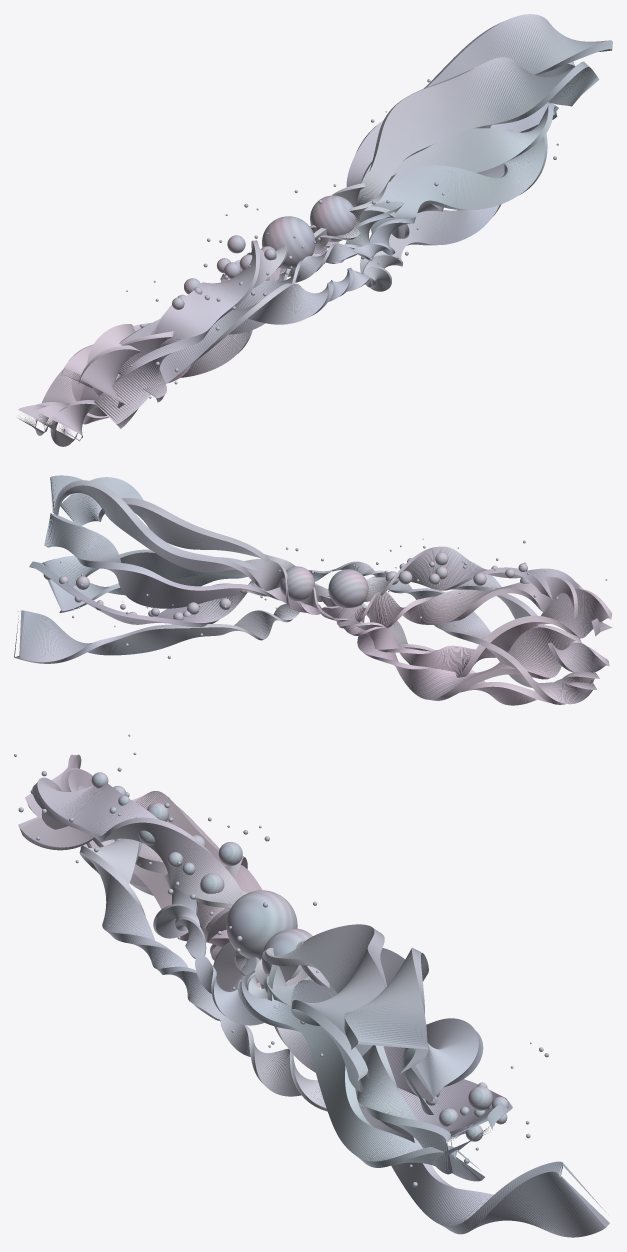
Rendered from glass_wave.glb.
The picture shows the model from 3 angles, top to bottom: view 1: azimuth 30°, elevation 25°; view 2: azimuth 150°, elevation 25°; view 3: azimuth 270°, elevation 25°; orthographic projection. The views are drawn at different scales.
Parts seen in each view (by area): view 1: world; view 2: world; view 3: world.
Part boxes in pixels (x1,y1,x2,y2): world: [18, 14, 612, 446]; world: [14, 475, 612, 705]; world: [14, 734, 609, 1237].
Size of the model in its own units: 38.69 by 12.95 by 22.74.
